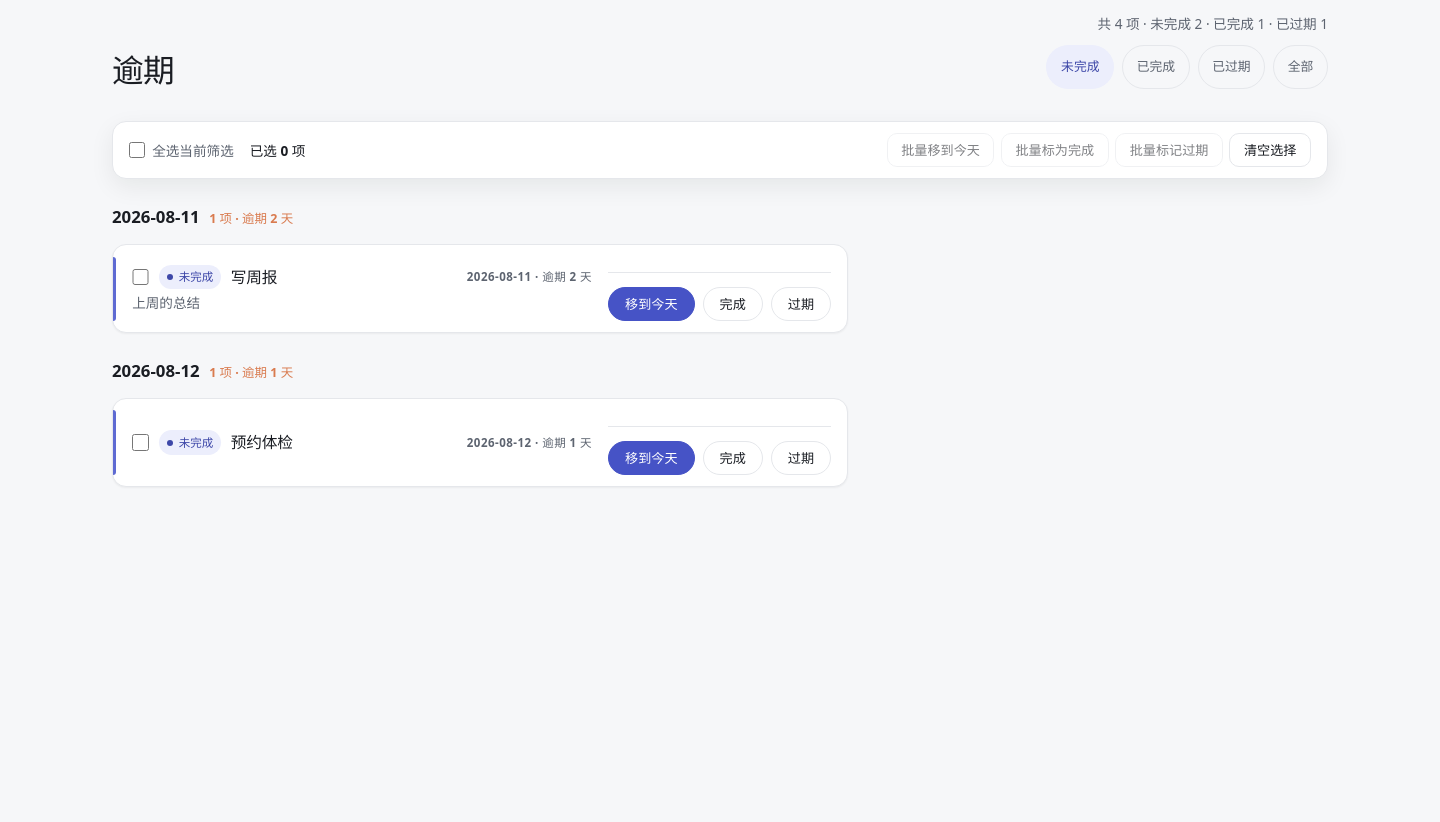
Test: overdue page › selects the whole filtered view and reports partial bulk failures
This screenshot has width=1440, height=822.
Expected: the heading "写周报" is shown, [231,264,277,290]
Click the checkbox labelled "全选当前筛选" at point(137, 150), box [129,142,145,158]
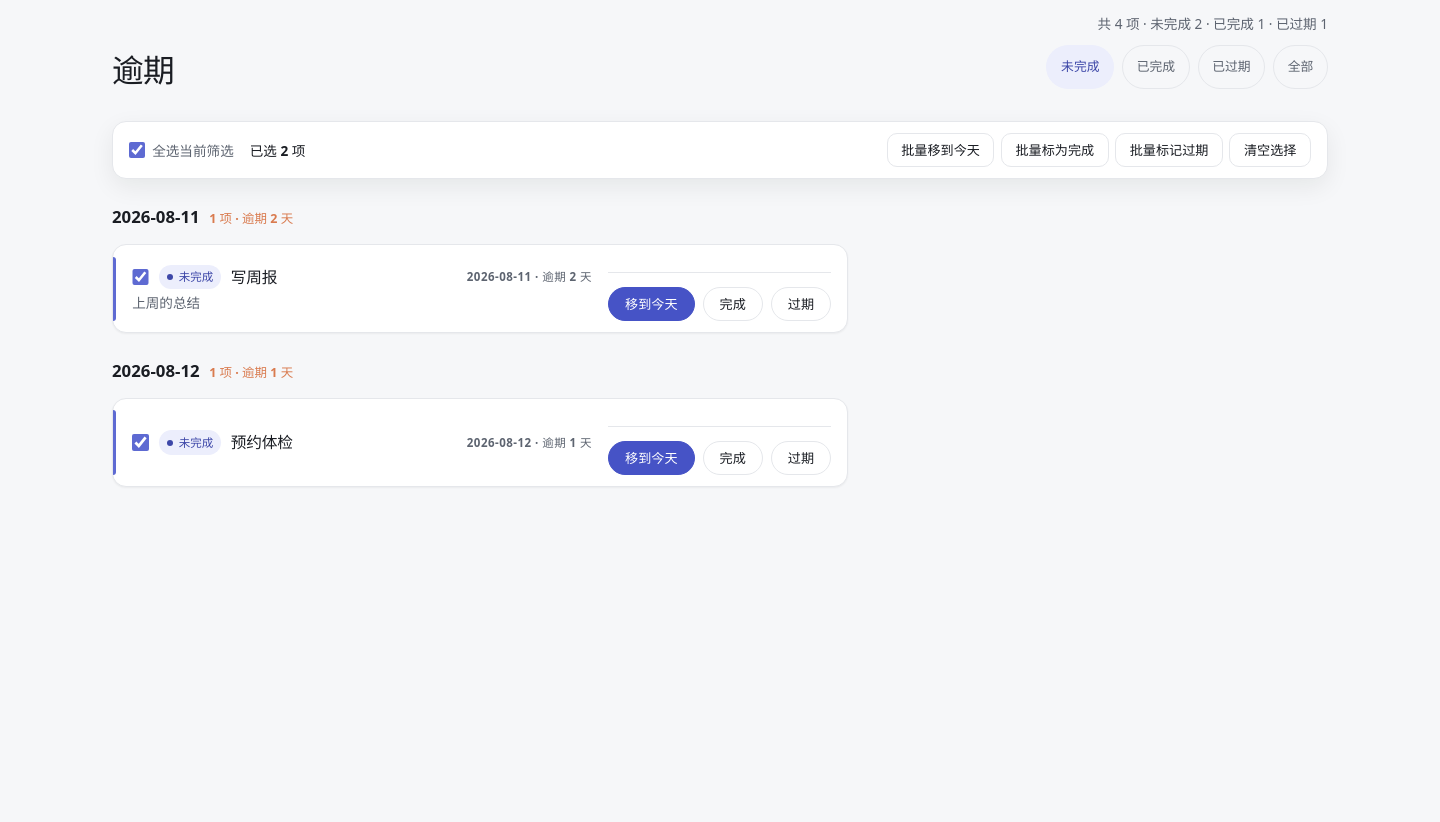
Result: the text "已选 2 项" is shown at [250,138,306,162]
Click the button "批量移到今天" at point(941, 150), box [887,133,994,167]
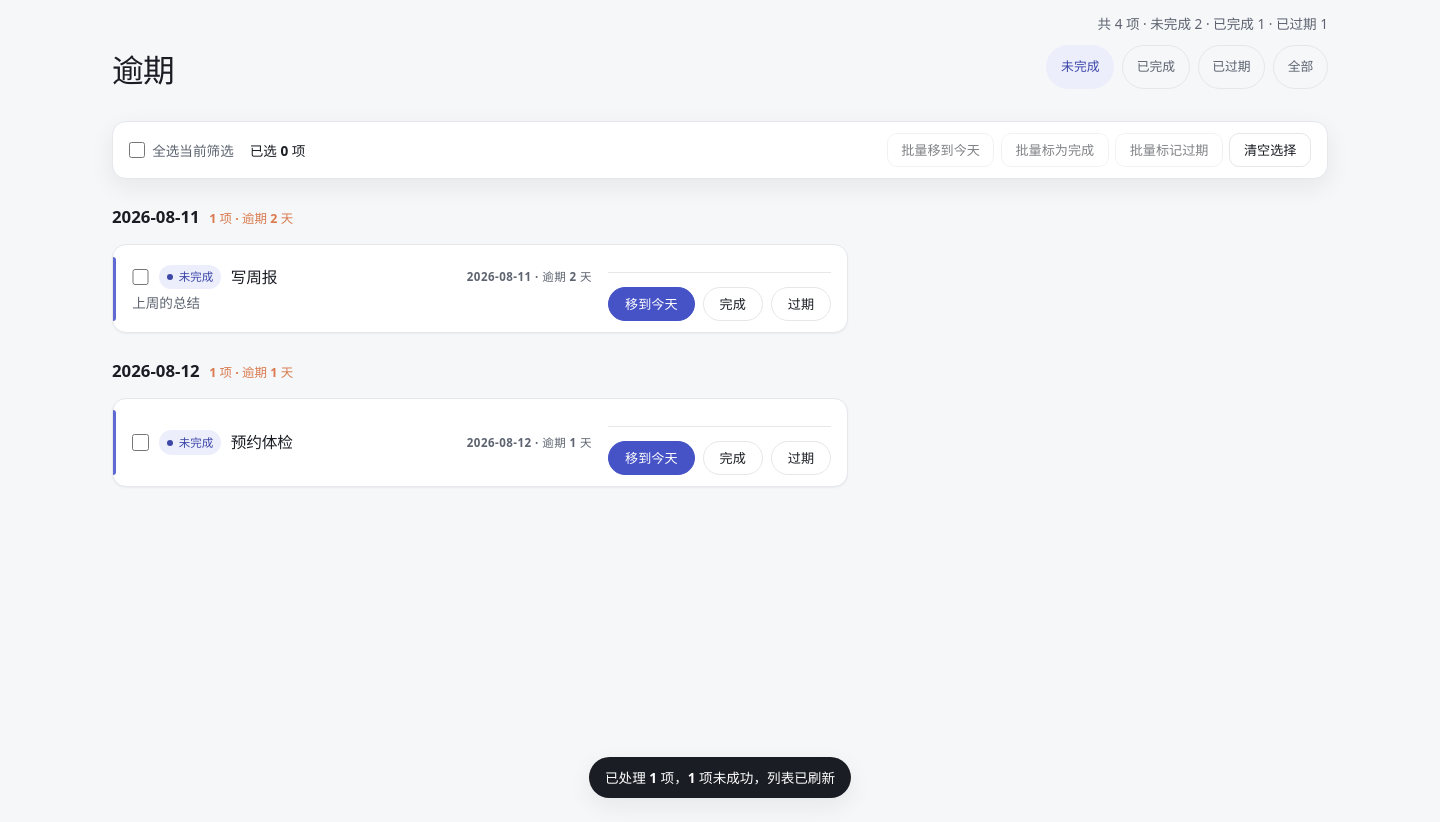
Result: the text "已处理 1 项，1 项未成功，列表已刷新" is shown at [589,757,851,798]
